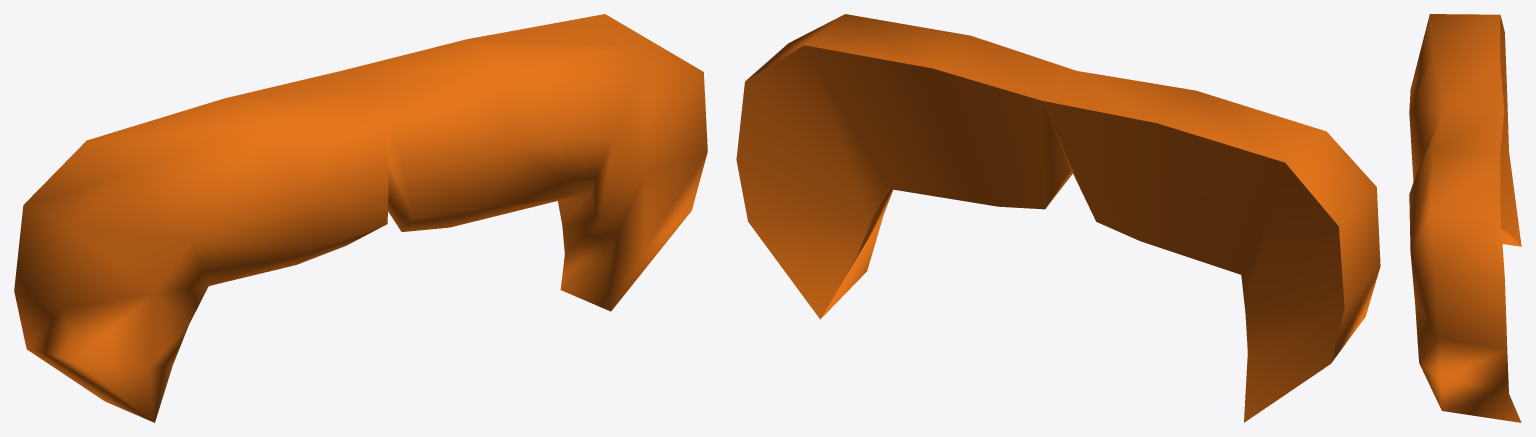
The model's file is Beard_Orange_5.fbx.
3 views of the same model, side by side, from view 1: azimuth 30°, elevation 25°; view 2: azimuth 150°, elevation 25°; view 3: azimuth 270°, elevation 25° (orthographic). The views are drawn at different scales.
Visible parts, largest first — view 1: Beard_Orange_5; view 2: Beard_Orange_5; view 3: Beard_Orange_5.
Part boxes in pixels (x1,y1,x2,y2): Beard_Orange_5: [14, 14, 707, 422]; Beard_Orange_5: [736, 14, 1380, 422]; Beard_Orange_5: [1409, 14, 1521, 422].
Bounding box in the file's own units: 30.33 × 12.89 × 5.69.
